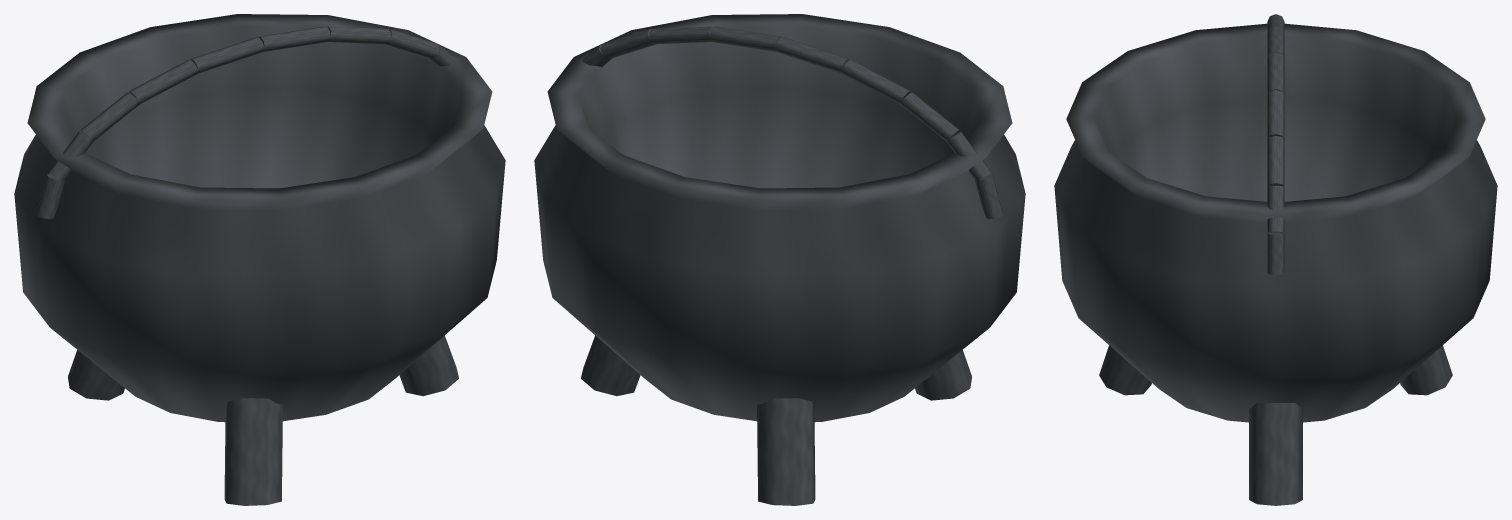
Rendered from cauldron.glb.
The picture shows the model from 3 angles, left to right: view 1: azimuth 30°, elevation 25°; view 2: azimuth 150°, elevation 25°; view 3: azimuth 270°, elevation 25°; orthographic projection. The views are drawn at different scales.
Visible parts, largest first — view 1: cauldron; view 2: cauldron; view 3: cauldron.
Boxes of the visible parts, x1=… form: cauldron: x1=14, y1=14, x2=505, y2=505; cauldron: x1=534, y1=14, x2=1025, y2=505; cauldron: x1=1054, y1=14, x2=1497, y2=505.
Bounding box in the file's own units: 0.5 × 0.42 × 0.4512.
Materials: 1 (1 with a texture image).
